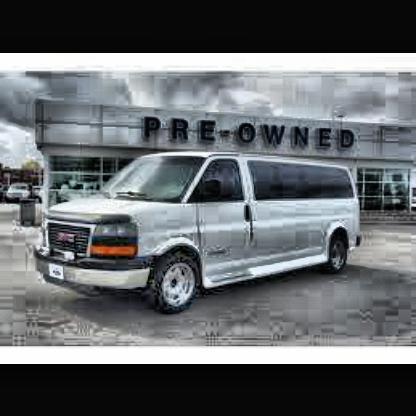GMC Savana Van 2012: (38, 155, 365, 318)
